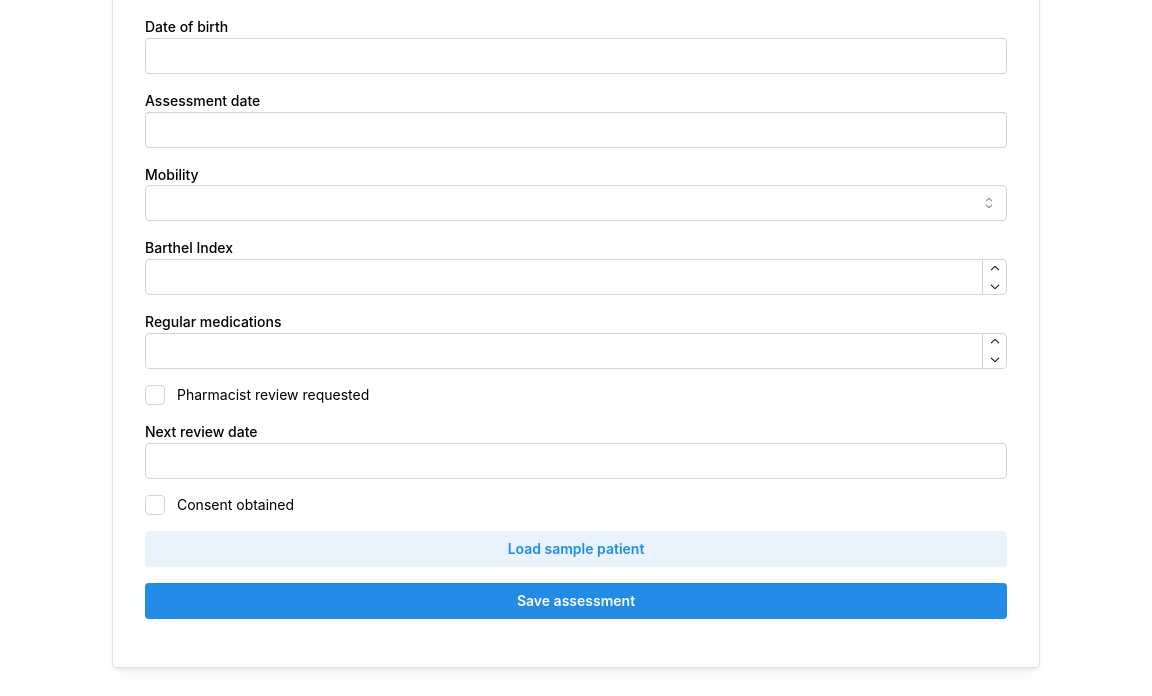
AssessmentForm › loads the sample patient and saves parsed values
The width and height of the screenshot is (1152, 696).
(page scrolled)
Click the button "Load sample patient" at (576, 548), box [145,530,1007,566]
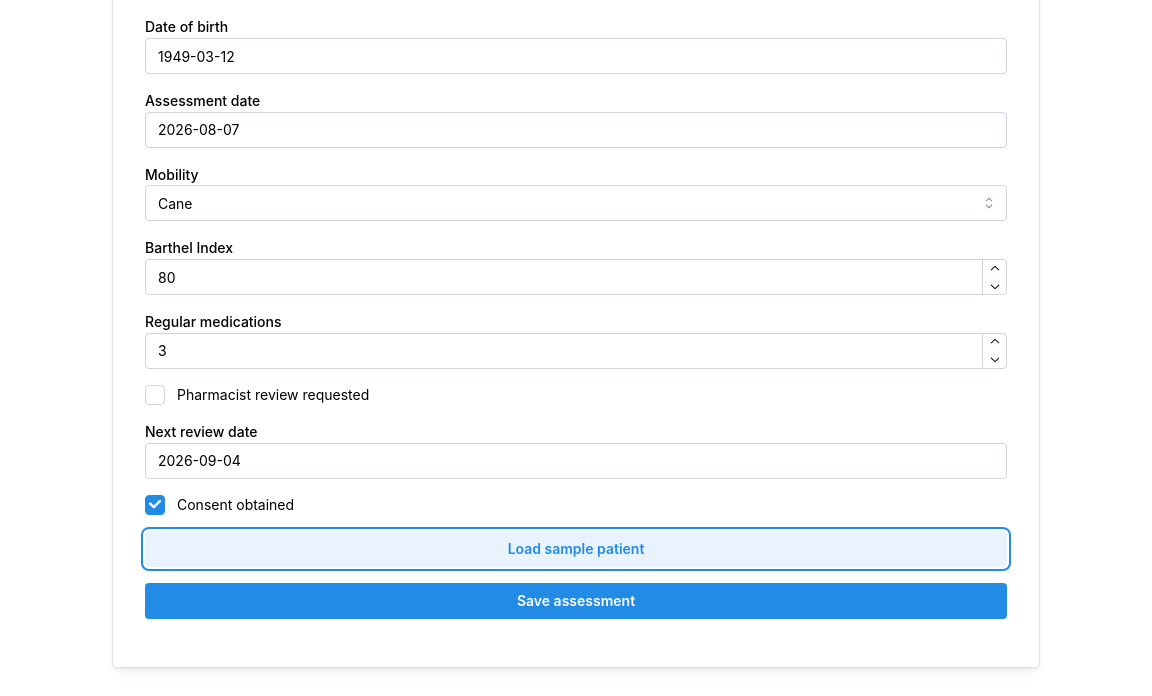
Click the button "Save assessment" at (576, 600), box [145,582,1007,618]
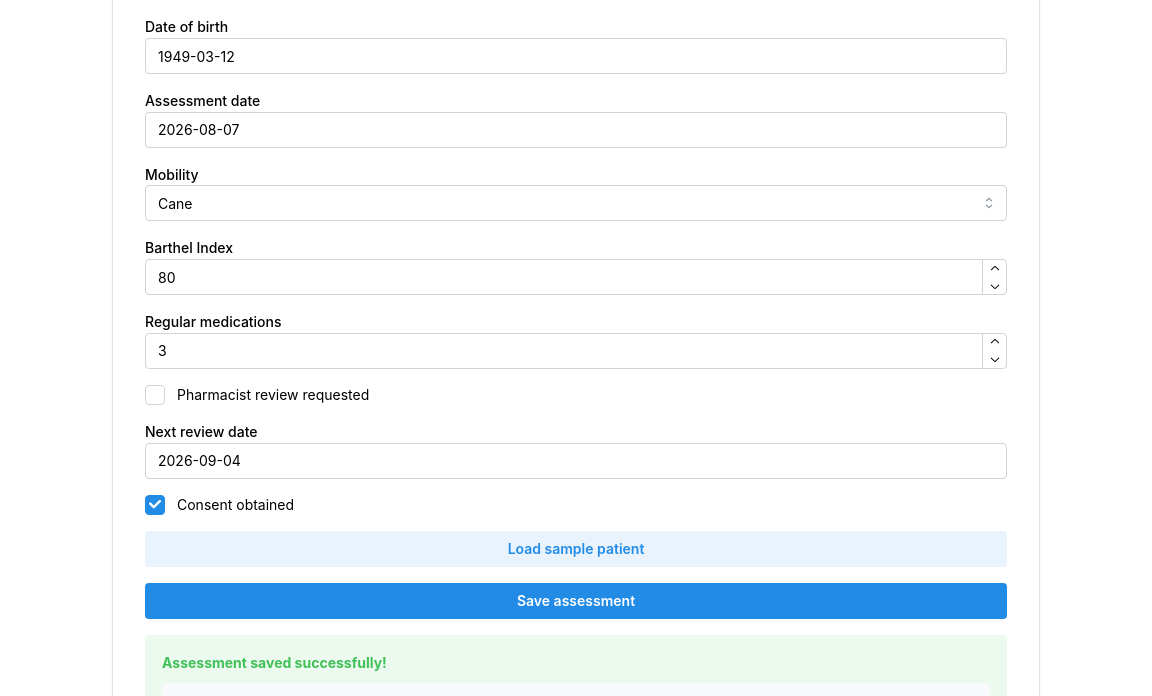
Now the text "Assessment saved successfully!" is shown, box [162,652,387,673]
